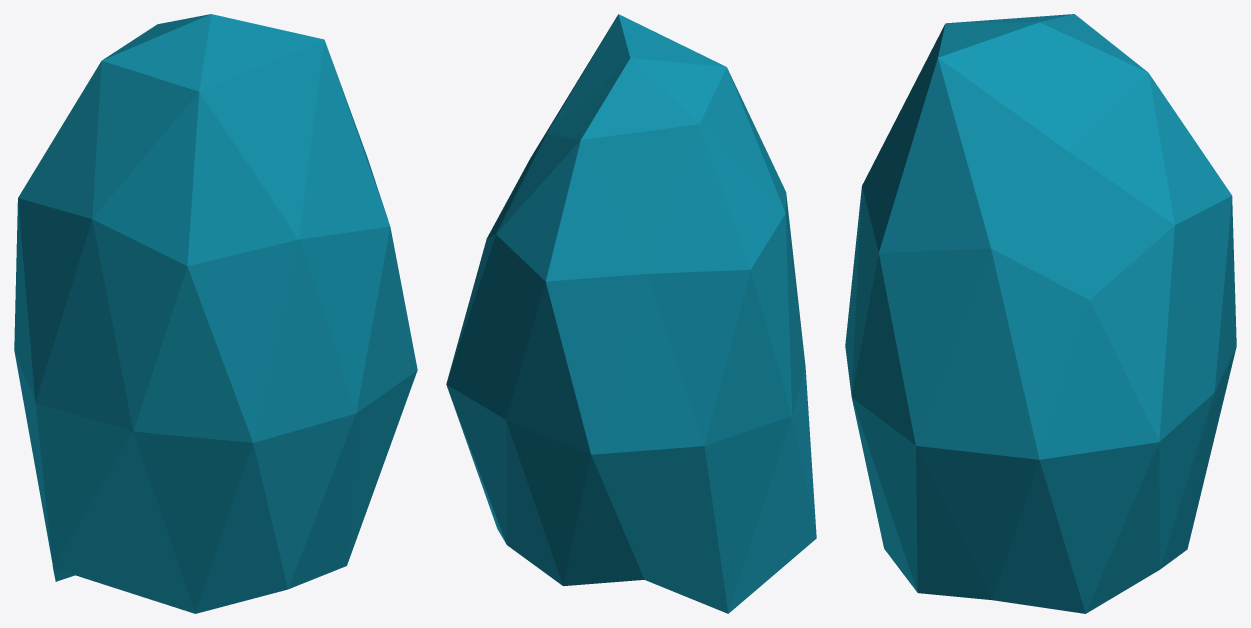
The model's file is Bush_4_summer_blue_pal.fbx.
The picture shows the model from 3 angles, left to right: view 1: azimuth 30°, elevation 25°; view 2: azimuth 150°, elevation 25°; view 3: azimuth 270°, elevation 25°; orthographic projection. The views are drawn at different scales.
Parts seen in each view (by area): view 1: Bush_4_summer_blue_pal; view 2: Bush_4_summer_blue_pal; view 3: Bush_4_summer_blue_pal.
Boxes of the visible parts, bbox=[...] form: Bush_4_summer_blue_pal: bbox=[14, 14, 417, 613]; Bush_4_summer_blue_pal: bbox=[446, 14, 816, 613]; Bush_4_summer_blue_pal: bbox=[845, 14, 1236, 613].
Size of the model in its own units: 39.09 by 58.1 by 36.72.
